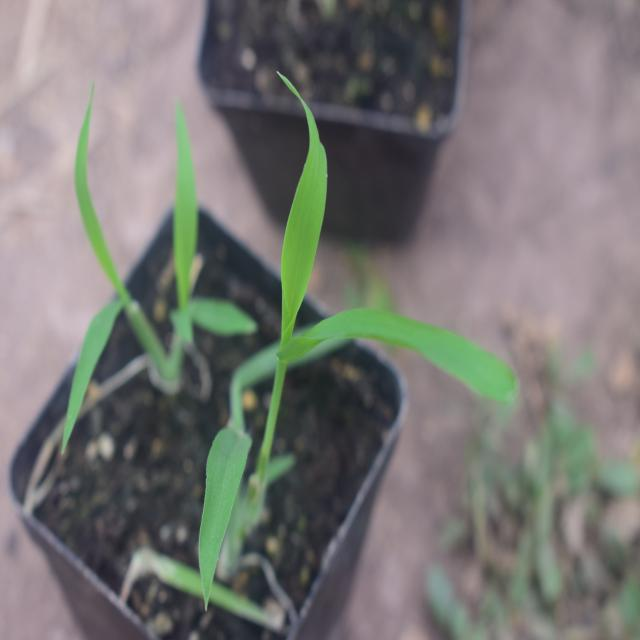crabgrass: (214, 99, 485, 511)
